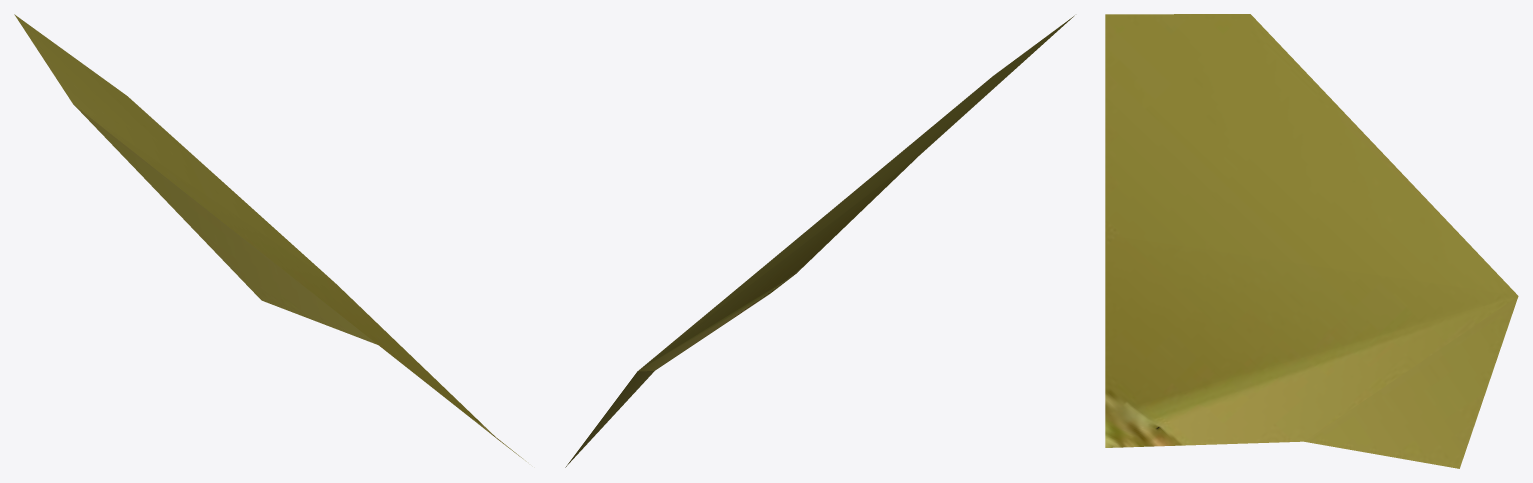
The picture shows the model from 3 angles, left to right: view 1: azimuth 30°, elevation 25°; view 2: azimuth 150°, elevation 25°; view 3: azimuth 270°, elevation 25°; orthographic projection. The views are drawn at different scales.
Bounding box in the file's own units: 1.51 × 1.79 × 2.05.
Materials: 1 (1 with a texture image).
